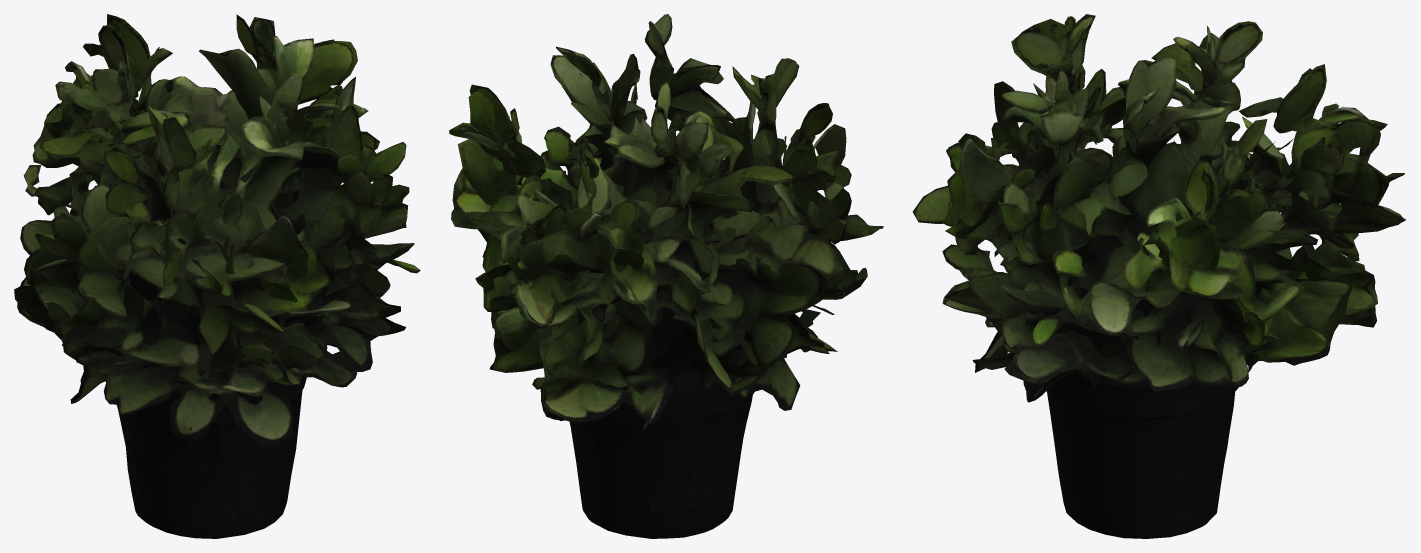
Rendered from PLANT TEXTURES ProjectRoom 2 AI.obj.
3 views of the same model, side by side, from view 1: azimuth 30°, elevation 25°; view 2: azimuth 150°, elevation 25°; view 3: azimuth 270°, elevation 25° (orthographic). The views are drawn at different scales.
Visible parts, largest first — view 1: geometry_0; view 2: geometry_0; view 3: geometry_0.
Part boxes in pixels (x1,y1,x2,y2): geometry_0: [14, 14, 420, 538]; geometry_0: [449, 14, 883, 538]; geometry_0: [912, 14, 1405, 538].
Size of the model in its own units: 0.6556 by 0.7749 by 0.7497.
